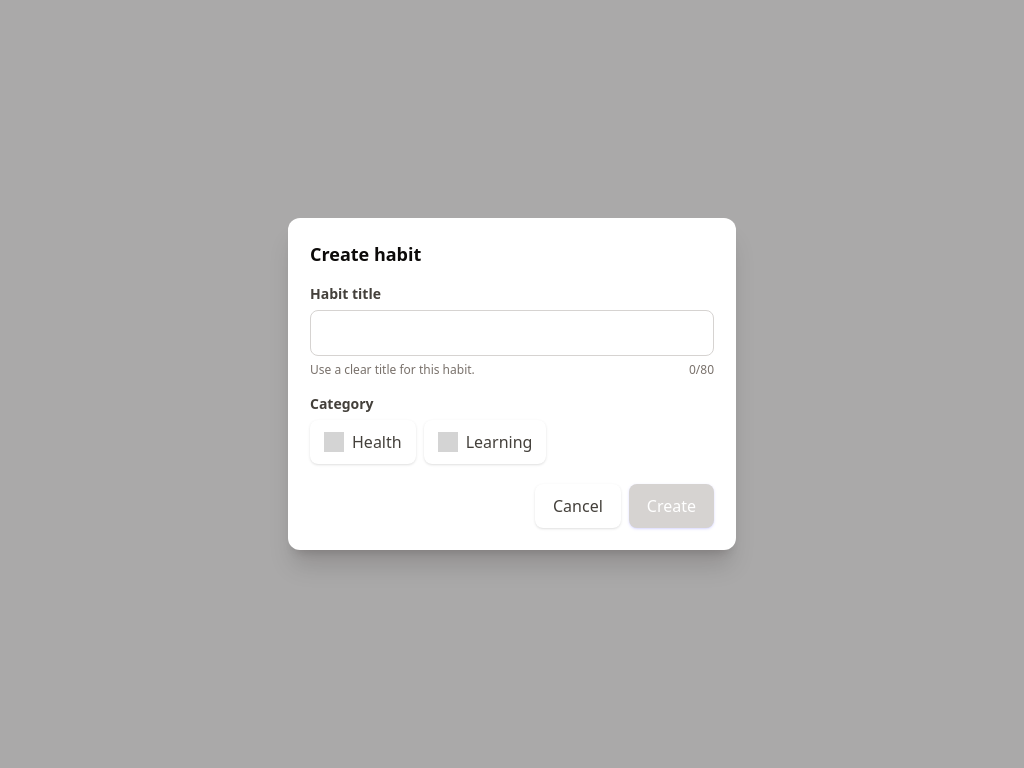
habit mutation modals › shows backend errors when creating a habit fails
Type "Morning walk" into the field labelled "Habit title" at (512, 333), box [310,310,714,356]
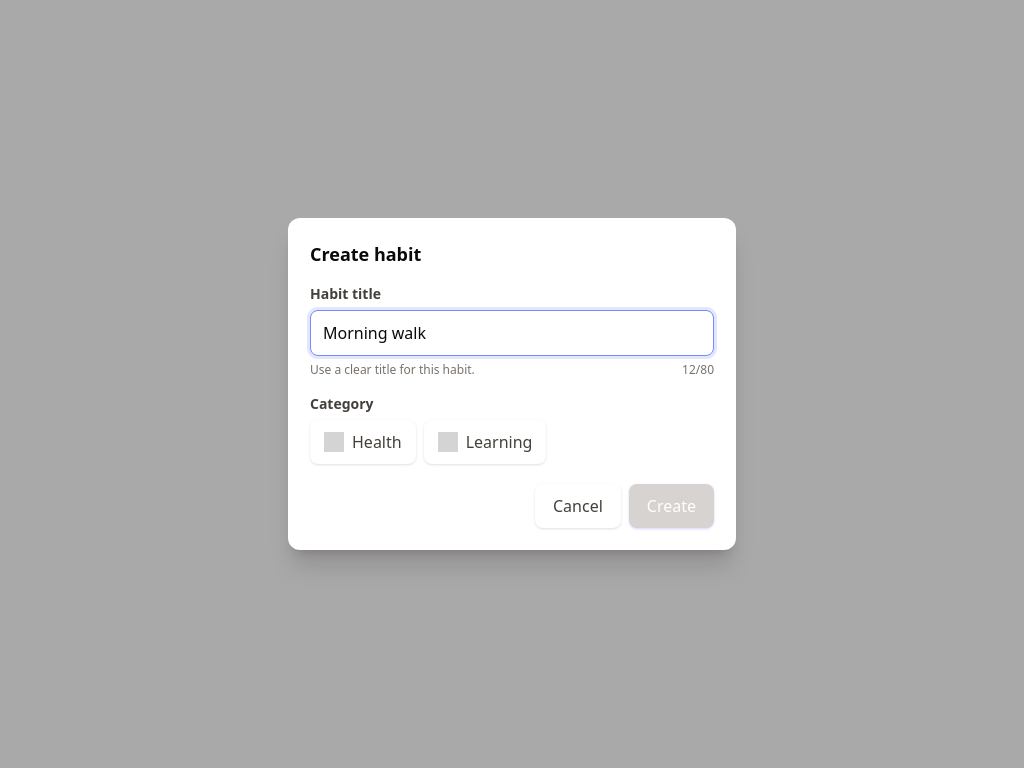
Click the button "Health" at (363, 442), box [310,420,416,464]
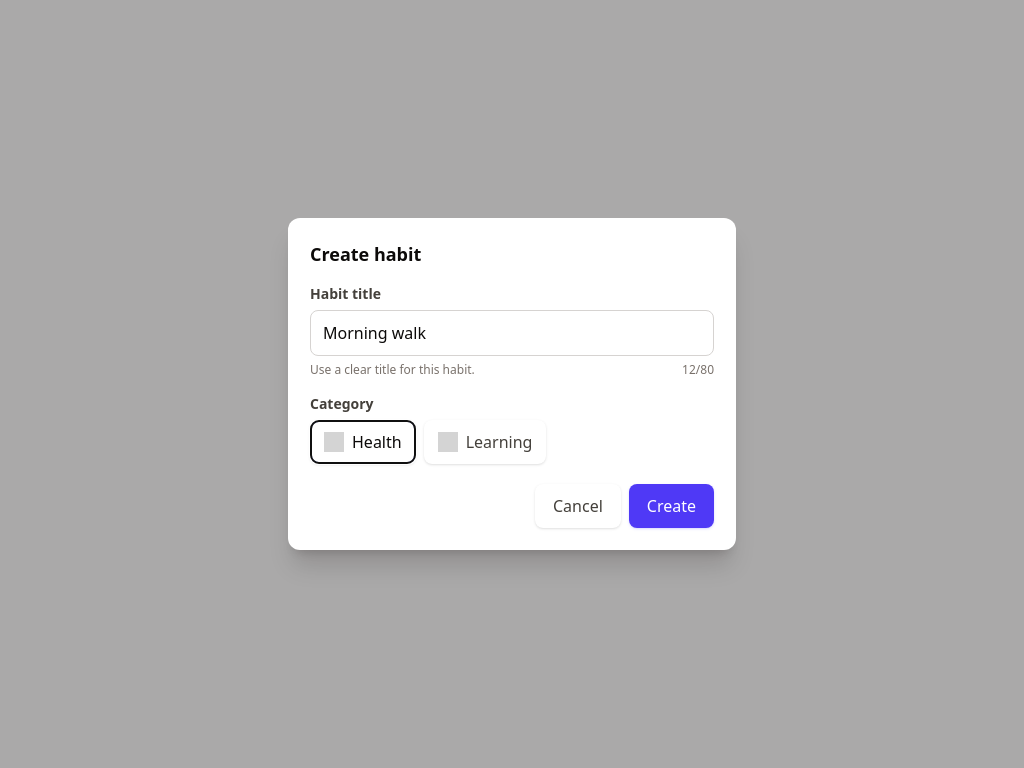
Click the button "Create" at (671, 506), box [629,484,714,528]
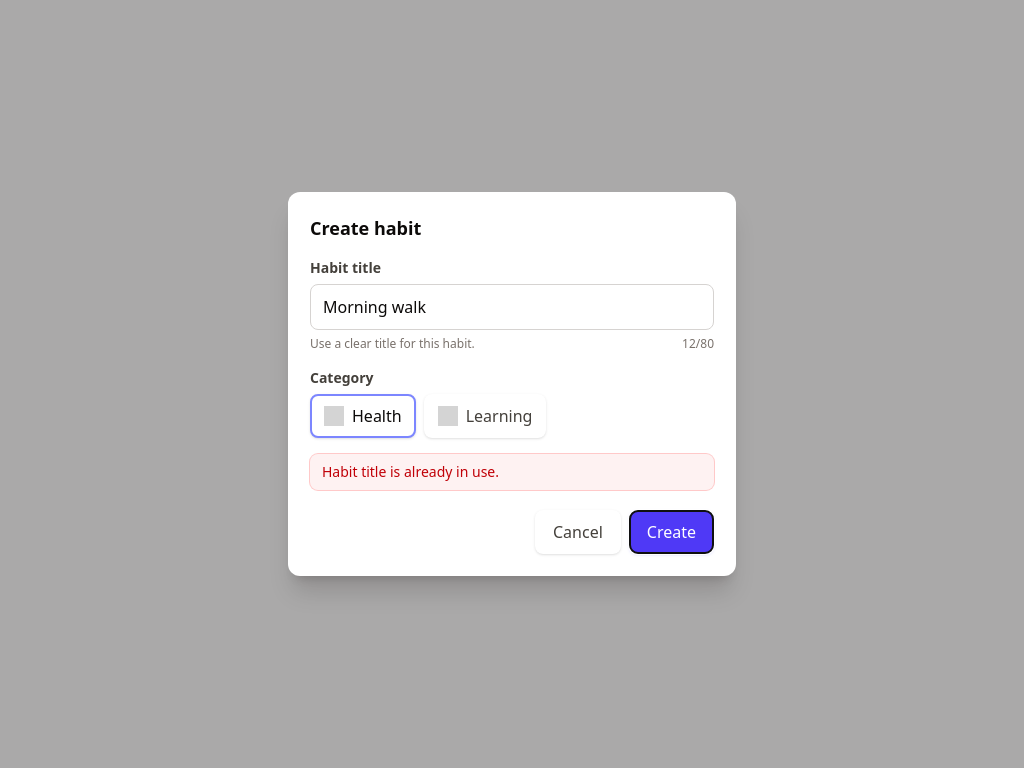
expect the dialog "Create habit" is shown: met, box [288,192,736,576]
expect the text "Habit title is already in use." is shown: met, box [322,462,499,481]
